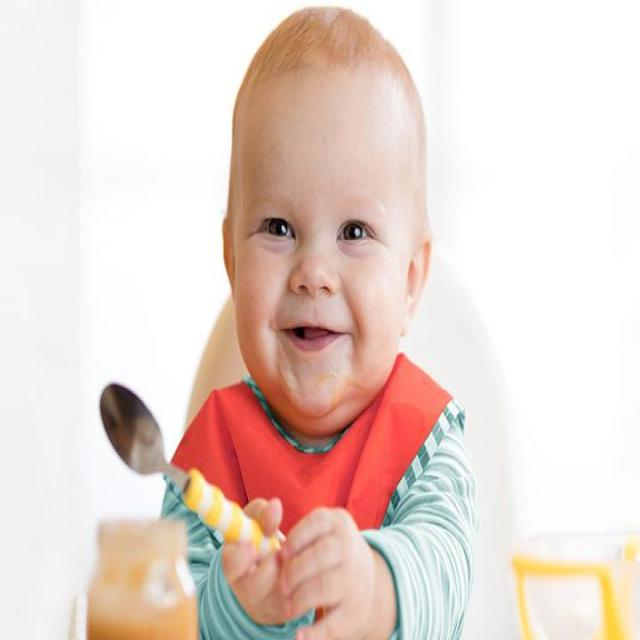child: (154, 1, 480, 640)
